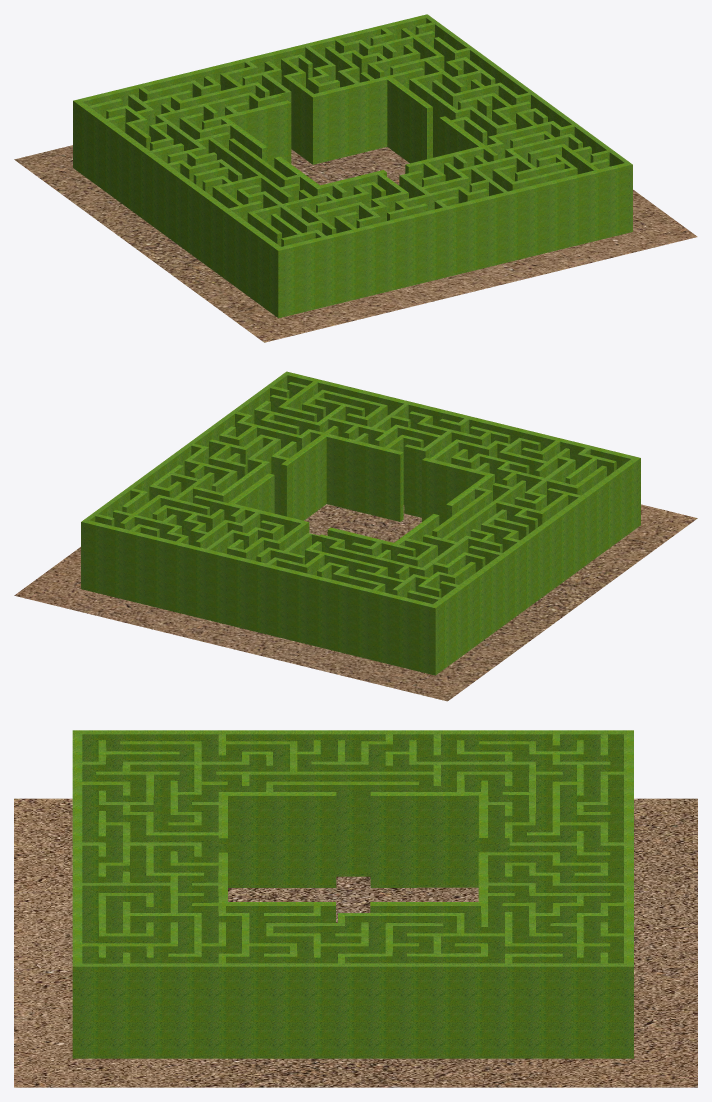
Rendered from Export definitivo laberinto.glb.
The picture shows the model from 3 angles, top to bottom: view 1: azimuth 30°, elevation 25°; view 2: azimuth 150°, elevation 25°; view 3: azimuth 270°, elevation 25°; orthographic projection. The views are drawn at different scales.
Parts seen in each view (by area): view 1: Curve, Plane; view 2: Curve, Plane; view 3: Curve, Plane.
Part boxes in pixels (x1,y1,x2,y2): Curve: [73, 14, 632, 318]; Plane: [14, 145, 697, 342]; Curve: [81, 371, 640, 675]; Plane: [14, 504, 697, 701]; Curve: [72, 730, 633, 1058]; Plane: [14, 798, 697, 1087].
Bounding box in the file's own units: 120 × 17.8 × 120.
2 materials, 2 textured.
